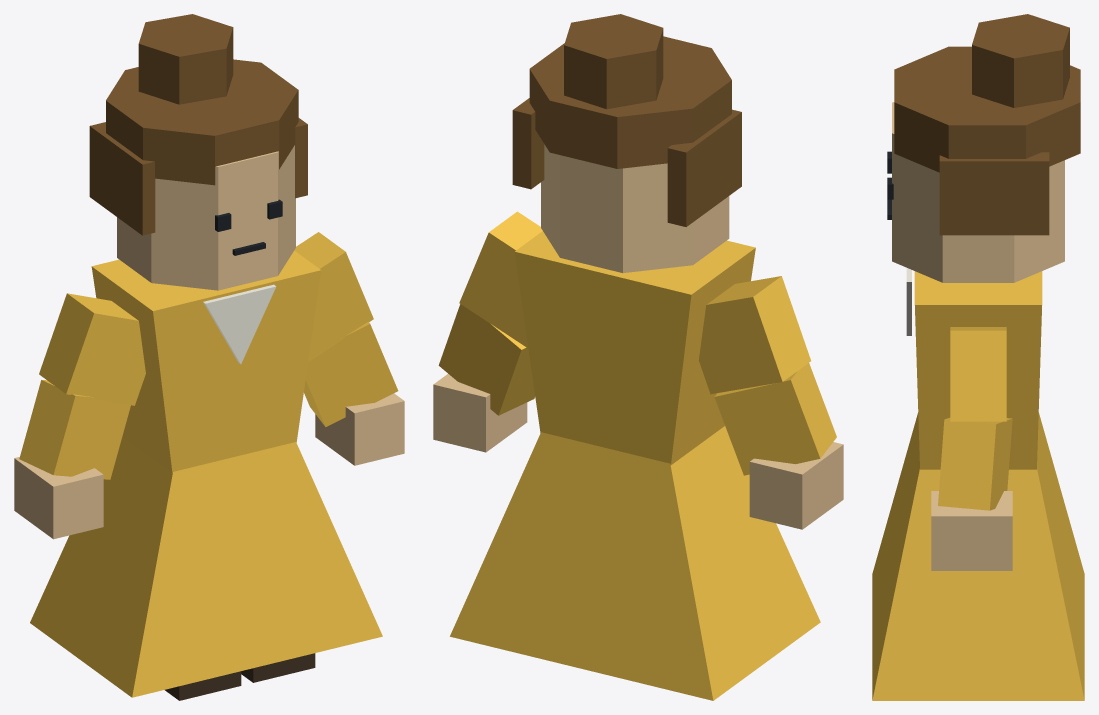
The model's file is Peggy.glb.
3 renders of one model, left to right at view 1: azimuth 30°, elevation 25°; view 2: azimuth 150°, elevation 25°; view 3: azimuth 270°, elevation 25°, orthographic. The views are drawn at different scales.
Visible parts, largest first — view 1: Body_M_CastV02_yellow_f9c848, Body_M_CastV02_lightHair_7c592c, Body_M_CastV02_lightSkin_ebca99, Body_M_CastV02_white_f9f7ea, Body; view 2: Body_M_CastV02_yellow_f9c848, Body_M_CastV02_lightHair_7c592c, Body_M_CastV02_lightSkin_ebca99; view 3: Body_M_CastV02_yellow_f9c848, Body_M_CastV02_lightHair_7c592c, Body_M_CastV02_lightSkin_ebca99, Body_M_CastV02_white_f9f7ea.
Part boxes in pixels (x1,y1,x2,y2): Body_M_CastV02_yellow_f9c848: (19, 232, 398, 697); Body_M_CastV02_lightHair_7c592c: (89, 14, 307, 235); Body_M_CastV02_lightSkin_ebca99: (14, 145, 404, 539); Body_M_CastV02_white_f9f7ea: (203, 284, 276, 364); Body: (165, 653, 315, 700); Body_M_CastV02_yellow_f9c848: (438, 211, 836, 700); Body_M_CastV02_lightHair_7c592c: (512, 14, 741, 226); Body_M_CastV02_lightSkin_ebca99: (433, 144, 843, 529); Body_M_CastV02_yellow_f9c848: (872, 271, 1084, 700); Body_M_CastV02_lightHair_7c592c: (894, 14, 1080, 235); Body_M_CastV02_lightSkin_ebca99: (892, 102, 1064, 570); Body_M_CastV02_white_f9f7ea: (906, 268, 911, 335).
Bounding box in the file's own units: 1.19 × 1.9 × 0.582.
